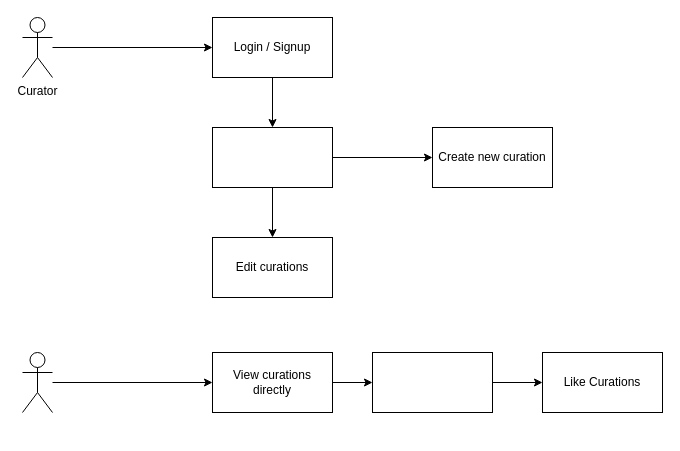
This 680x451 diagram has some shape labels left out. The shapes that lost their labels are listed below. From the top down, each one's centre as x and y in pixels, then its label:
(272,157): Curator Homepage
(37,382): User
(432,382): Login/Signup
